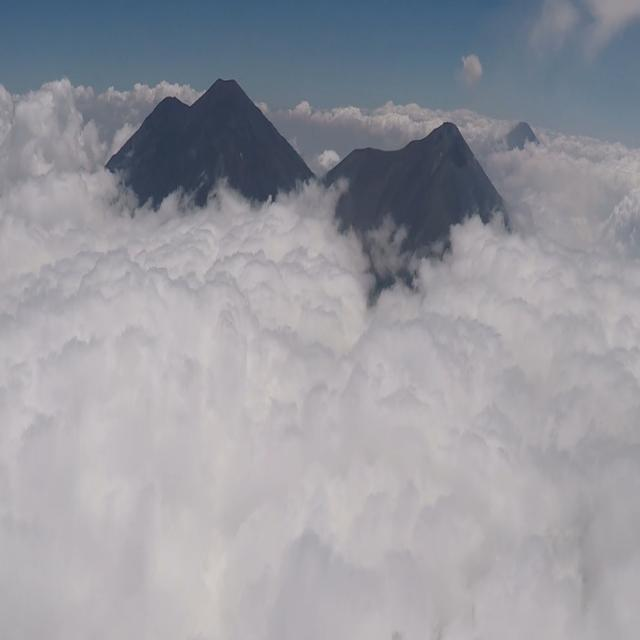Plume: (457, 52, 482, 92)
Summit: (400, 117, 482, 169)
